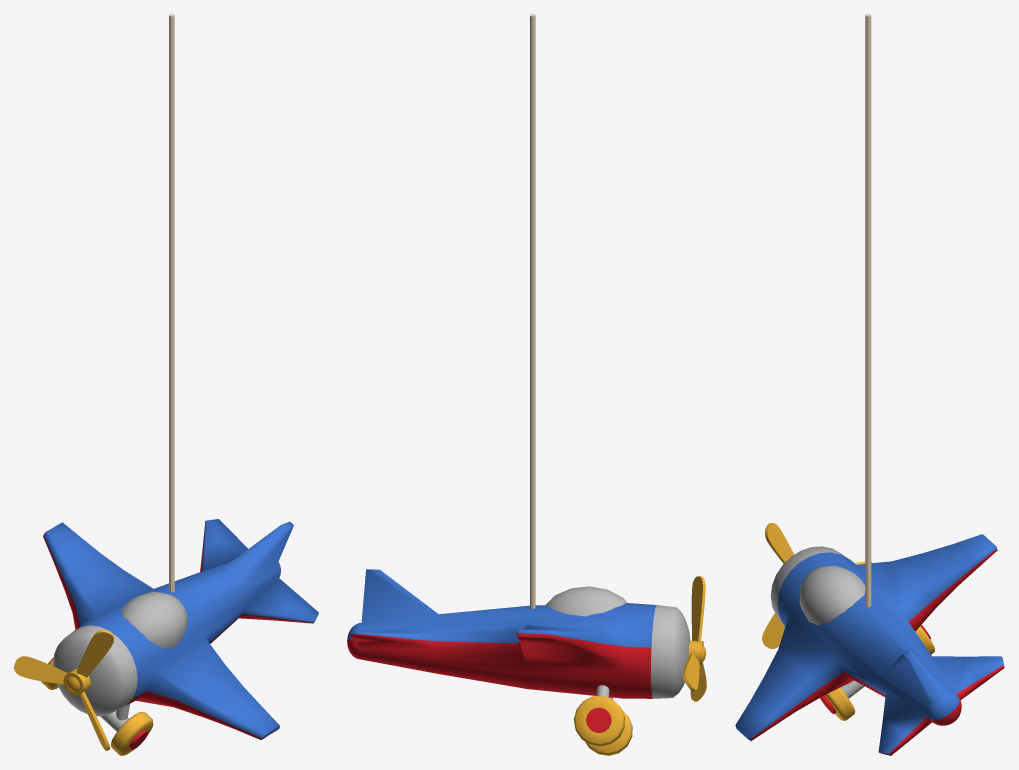
File: Aircraft_Large_00.FBX
3 views of the same model, side by side, from view 1: azimuth 30°, elevation 25°; view 2: azimuth 150°, elevation 25°; view 3: azimuth 270°, elevation 25° (orthographic). The views are drawn at different scales.
Visible parts, largest first — view 1: Aircraft_Large_00; view 2: Aircraft_Large_00; view 3: Aircraft_Large_00.
Part boxes in pixels (x1,y1,x2,y2): Aircraft_Large_00: (14,14,318,755); Aircraft_Large_00: (347,14,706,755); Aircraft_Large_00: (735,14,1004,755).
Size of the model in its own units: 9.21 by 20 by 6.66.
